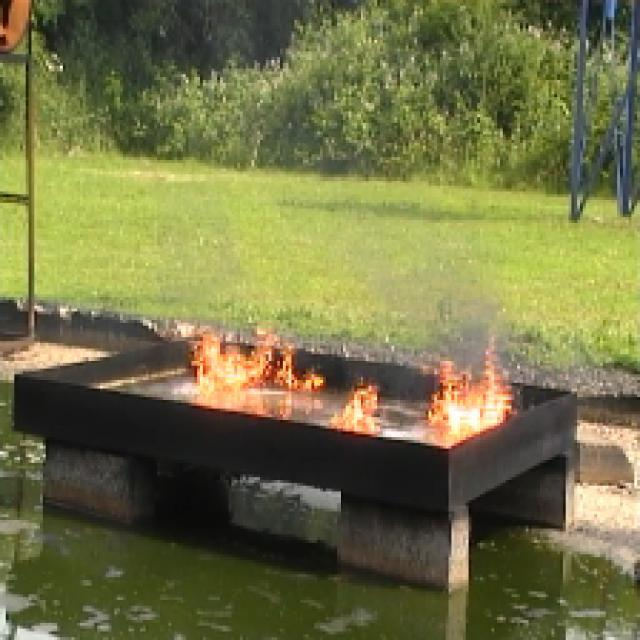Fire: (192, 336, 300, 391), (426, 377, 514, 432), (342, 389, 380, 435)
